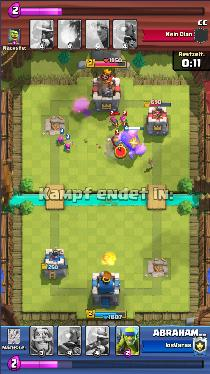ally_archer: (63, 142, 73, 154), (56, 135, 65, 146)
ally_fireball: (102, 251, 116, 267)
ally_giant: (118, 127, 147, 160)
enemy_archer: (108, 116, 119, 126), (120, 114, 127, 127)
enemy_knight: (107, 135, 123, 151)
